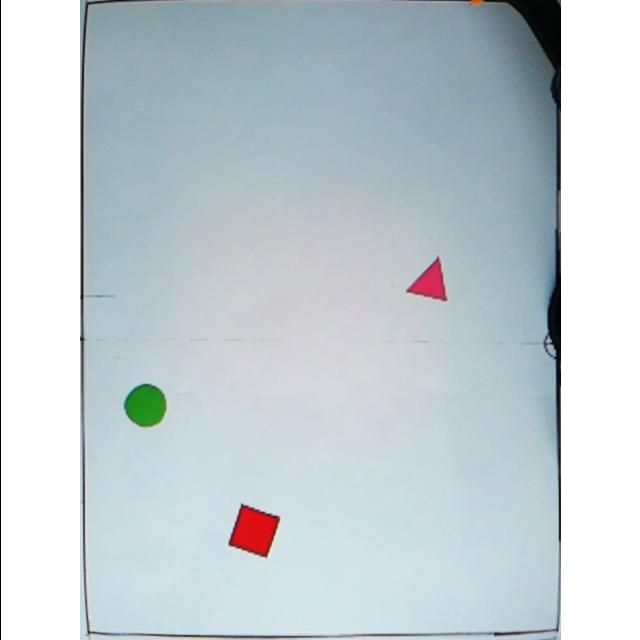greenCircle: (121, 382, 172, 428)
pinkTriangle: (404, 254, 452, 306)
redSquare: (227, 502, 286, 560)
